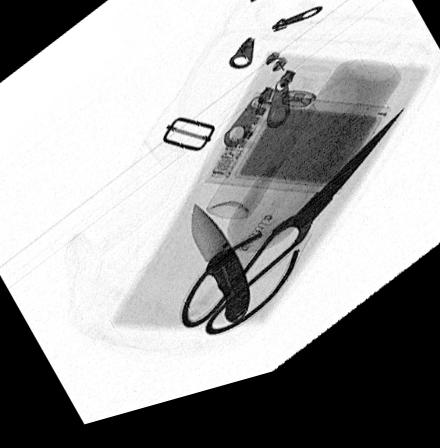Knife: (190, 211, 251, 336)
Powerbank: (205, 105, 393, 217)
Scissors: (180, 126, 409, 349)
Sprayer: (204, 84, 329, 233)
